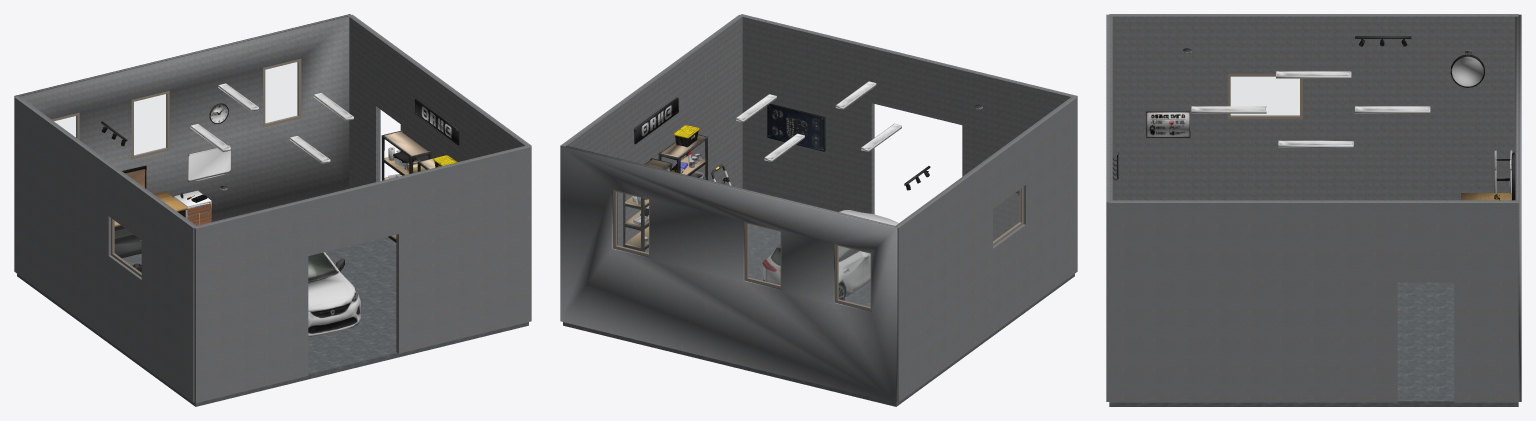
The model's file is scene_named.glb.
3 views of the same model, side by side, from view 1: azimuth 30°, elevation 25°; view 2: azimuth 150°, elevation 25°; view 3: azimuth 270°, elevation 25° (orthographic). The views are drawn at different scales.
Visible parts, largest first — view 1: south_wall_exterior_garage/south_wall_exterior_garage/geomet, north_wall_garage/north_wall_garage/geometry_0, west_wall_exterior_garage/west_wall_exterior_garage/geometry, east_wall_garage/east_wall_garage/geometry_0, floor_garage, car_0, window_2_garage/window_2_garage/glass, window_3_garage/window_3_garage/glass, whiteboard_0, shelving_unit_1, workbench_0, window_4_garage/window_4_garage/glass (+7 smaller); view 2: north_wall_exterior_garage/north_wall_exterior_garage/geomet, south_wall_garage/south_wall_garage/geometry_0, west_wall_exterior_garage/west_wall_exterior_garage/geometry, east_wall_garage/east_wall_garage/geometry_0, floor_garage, car_0, poster_0, window_1_garage/window_1_garage/glass, window_2_garage/window_2_garage/glass, window_3_garage/window_3_garage/glass, shelving_unit_1, window_4_garage/window_4_garage/glass (+9 smaller); view 3: east_wall_exterior_garage/east_wall_exterior_garage/geometry, west_wall_garage/west_wall_garage/geometry_0, floor_garage, window_4_garage/window_4_garage/glass, north_wall_exterior_garage/north_wall_exterior_garage/geomet, south_wall_exterior_garage/south_wall_exterior_garage/geomet, sign_0, mirror_0, east_wall_garage/east_wall_garage/geometry_0, west_wall_exterior_garage/west_wall_exterior_garage/geometry, window_4_garage/window_4_garage/frame, north_wall_garage/north_wall_garage/geometry_0 (+6 smaller).
Part boxes in pixels (x1,y1,x2,y2): south_wall_exterior_garage/south_wall_exterior_garage/geomet: [194, 146, 531, 402]; north_wall_garage/north_wall_garage/geometry_0: [19, 16, 349, 238]; west_wall_exterior_garage/west_wall_exterior_garage/geometry: [14, 96, 195, 402]; east_wall_garage/east_wall_garage/geometry_0: [348, 15, 528, 188]; floor_garage: [17, 237, 528, 406]; car_0: [308, 252, 360, 336]; window_2_garage/window_2_garage/glass: [134, 94, 166, 155]; window_3_garage/window_3_garage/glass: [265, 62, 297, 123]; whiteboard_0: [187, 144, 230, 181]; shelving_unit_1: [381, 130, 431, 242]; workbench_0: [114, 191, 187, 258]; window_4_garage/window_4_garage/glass: [114, 221, 141, 272]; north_wall_exterior_garage/north_wall_exterior_garage/geomet: [560, 146, 897, 402]; south_wall_garage/south_wall_garage/geometry_0: [742, 16, 1072, 241]; west_wall_exterior_garage/west_wall_exterior_garage/geometry: [896, 96, 1077, 402]; east_wall_garage/east_wall_garage/geometry_0: [563, 15, 743, 252]; floor_garage: [563, 224, 1074, 406]; car_0: [762, 210, 898, 300]; poster_0: [767, 103, 825, 151]; window_1_garage/window_1_garage/glass: [838, 246, 870, 306]; window_2_garage/window_2_garage/glass: [748, 224, 780, 284]; window_3_garage/window_3_garage/glass: [617, 192, 648, 252]; shelving_unit_1: [623, 158, 672, 251]; window_4_garage/window_4_garage/glass: [993, 189, 1020, 241]; east_wall_exterior_garage/east_wall_exterior_garage/geometry: [1109, 201, 1518, 402]; west_wall_garage/west_wall_garage/geometry_0: [1109, 15, 1518, 200]; floor_garage: [1109, 282, 1518, 406]; window_4_garage/window_4_garage/glass: [1231, 77, 1299, 115]; north_wall_exterior_garage/north_wall_exterior_garage/geomet: [1518, 14, 1521, 401]; south_wall_exterior_garage/south_wall_exterior_garage/geomet: [1106, 14, 1109, 401]; sign_0: [1146, 111, 1190, 137]; mirror_0: [1450, 50, 1484, 87]; east_wall_garage/east_wall_garage/geometry_0: [1109, 200, 1518, 201]; west_wall_exterior_garage/west_wall_exterior_garage/geometry: [1109, 14, 1518, 15]; window_4_garage/window_4_garage/frame: [1227, 73, 1302, 119]; north_wall_garage/north_wall_garage/geometry_0: [1515, 16, 1518, 200].
Bounding box in the file's own units: 7.1 × 3.6 × 6.6.
49 materials, 43 textured.
